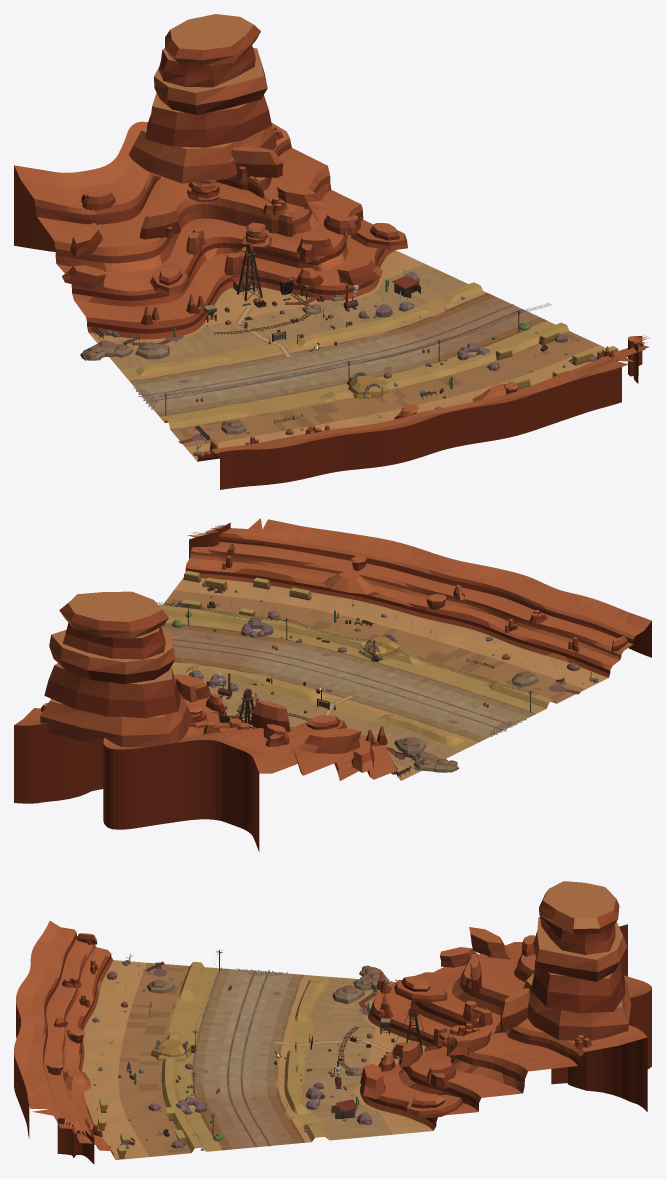
File: chunk_section1_c.glb
The picture shows the model from 3 angles, top to bottom: view 1: azimuth 30°, elevation 25°; view 2: azimuth 150°, elevation 25°; view 3: azimuth 270°, elevation 25°; orthographic projection. The views are drawn at different scales.
Parts seen in each view (by area): view 1: chunk_section1_c; view 2: chunk_section1_c; view 3: chunk_section1_c.
Part boxes in pixels (left/top/right/bottom): chunk_section1_c: left=14, top=14, right=649, bottom=489; chunk_section1_c: left=14, top=518, right=651, bottom=851; chunk_section1_c: left=14, top=881, right=651, bottom=1164.
Size of the model in its own units: 449 by 181 by 576.
